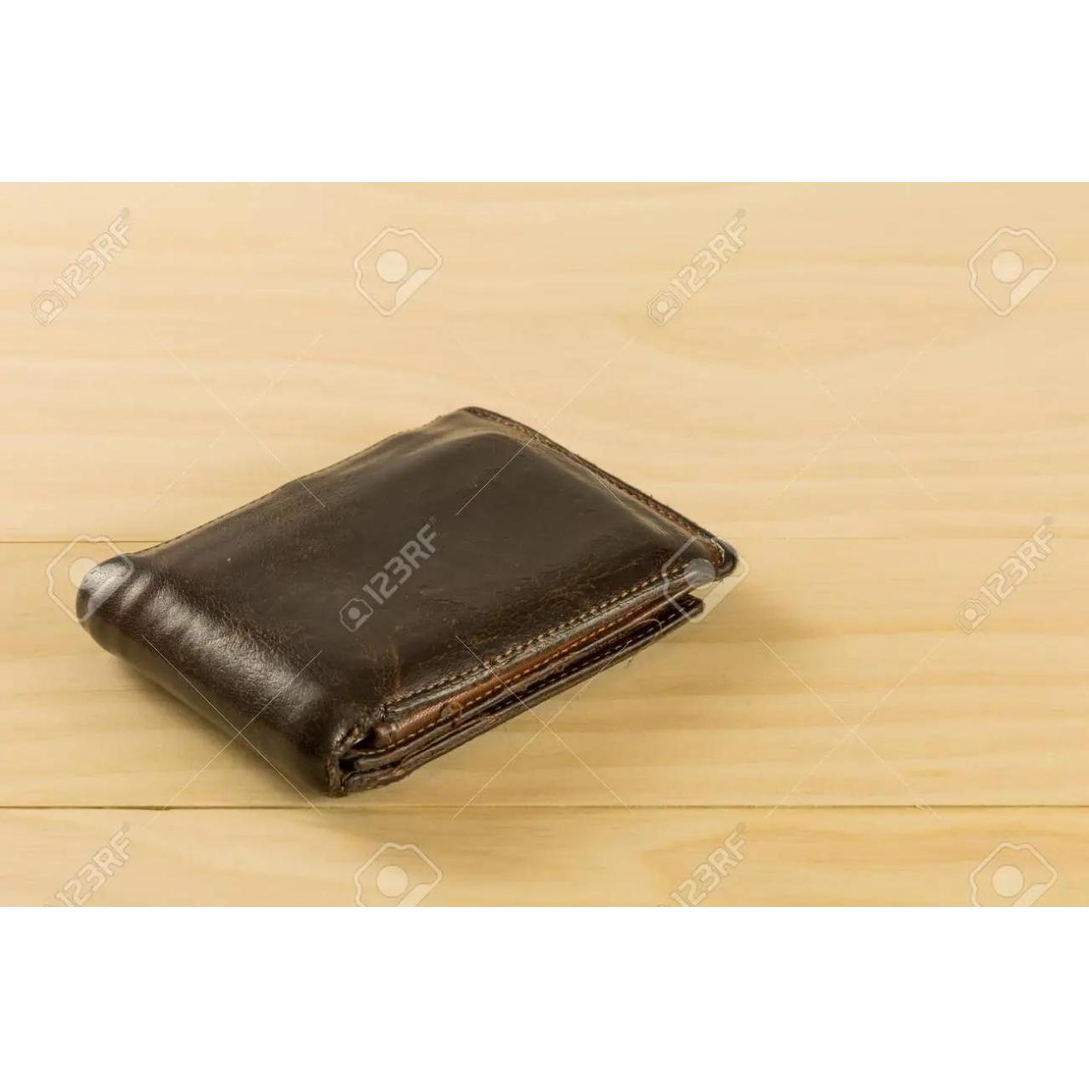wallet: (66, 355, 792, 780)
